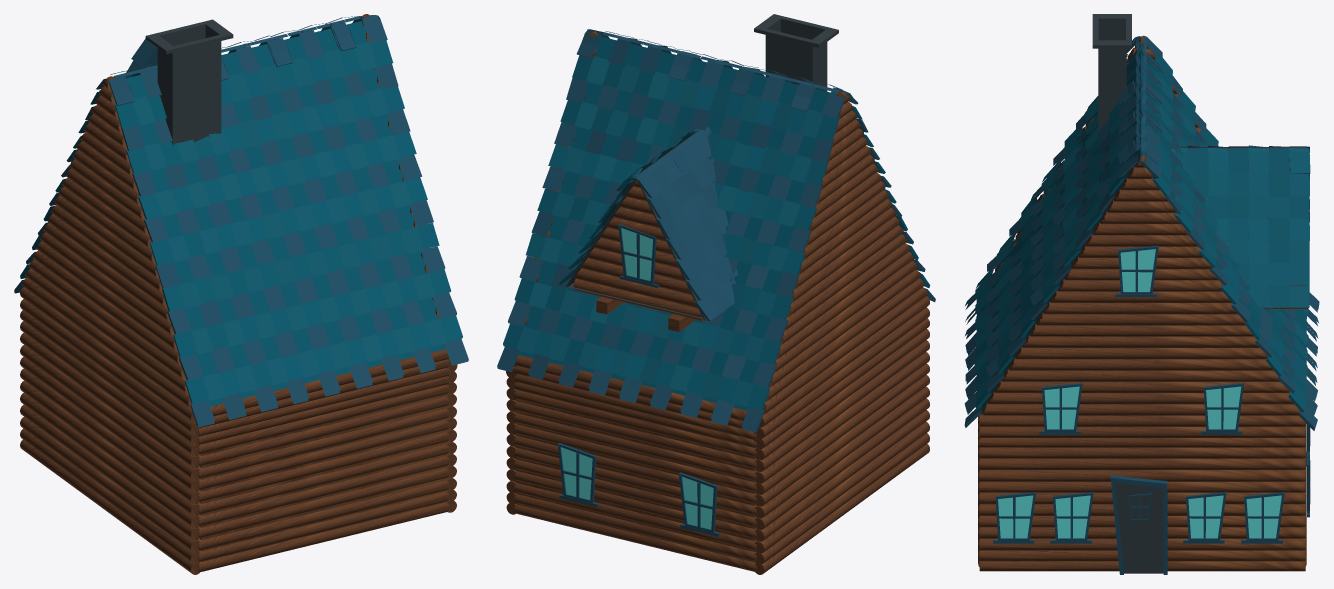
Rendered from home-emily.fbx.
3 renders of one model, left to right at view 1: azimuth 30°, elevation 25°; view 2: azimuth 150°, elevation 25°; view 3: azimuth 270°, elevation 25°, orthographic. The views are drawn at different scales.
Visible parts, largest first — view 1: Cube.157; view 2: Cube.157; view 3: Cube.157.
Boxes of the visible parts, box(x1,y1,x2,y2) form: Cube.157: box(14, 14, 468, 574); Cube.157: box(497, 14, 935, 574); Cube.157: box(964, 14, 1319, 574).
Size of the model in its own units: 2029 by 3379 by 2407.
6 materials, 1 textured.
